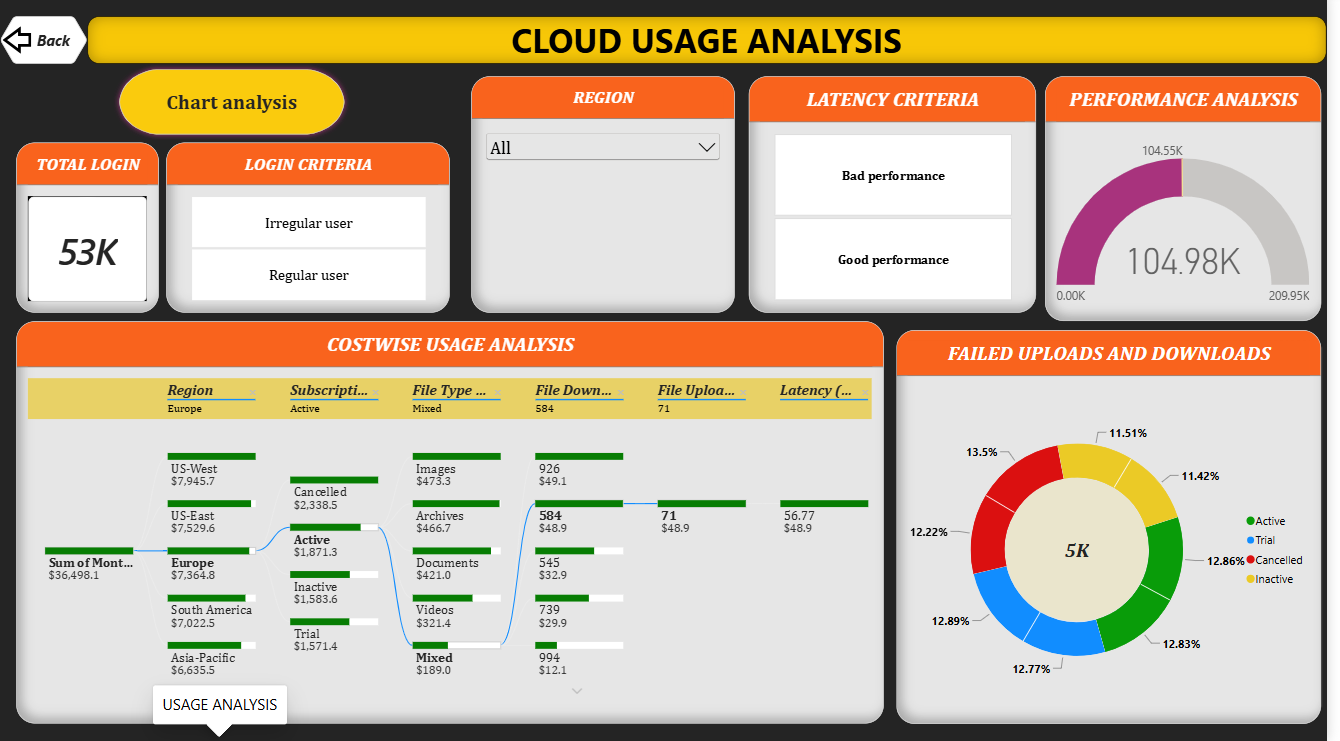

The page's visual inventory and layout, read from the dashboard file:
{"tool":"powerbi","page":{"name":"USAGE ANALYSIS","canvas":[1920,1080],"ordinal":1},"visuals":[{"type":"textbox","box":[126.7,30.8,1793.4,68.8],"z":0},{"type":"decompositionTreeVisual","title":"COSTWISE USAGE ANALYSIS","fields":{"Analyze":["Sum(FACT_TABLE.Monthly Cost ($))"],"ExplainBy":["DIM-4(REGION DIMENSION).Region","DIM-3(SUB DIMENSION).Subscription Status","DIM-2(FILE DIMENSION).File Type Distribution","FACT_TABLE.File Downloads","FACT_TABLE.File Uploads","FACT_TABLE.Latency (ms)"]},"box":[23.5,472.3,1255.9,582.7],"z":1000},{"type":"slicer","title":"LATENCY CRITERIA","fields":{"Values":["FACT_TABLE.Latency_cri"]},"box":[1084,117.6,416.2,342],"z":2000},{"type":"donutChart","title":"FAILED UPLOADS AND DOWNLOADS","fields":{"Category":["DIM-3(SUB DIMENSION).Subscription Status"],"Y":["Sum(FACT_TABLE.Failed Uploads)","Sum(FACT_TABLE.Failed Downloads)"]},"box":[1297.5,485,615.3,570],"z":3000},{"type":"gauge","title":"PERFORMANCE ANALYSIS","fields":{"TargetValue":["Sum(FACT_TABLE.Upload Speed (Mbps))"],"Y":["Sum(FACT_TABLE.Latency (ms))"]},"box":[1512.9,117.6,399.9,354.7],"z":4000},{"type":"actionButton","title":"usage analysis","box":[164.7,99.5,342,110.4],"z":5000},{"type":"actionButton","box":[0,30.8,126.7,68.8],"z":6000},{"type":"shape","box":[3.6,45.2,41.6,39.8],"z":7000},{"type":"cardVisual","title":"TOTAL LOGIN","fields":{"Data":["Sum(FACT_TABLE.Logins)"]},"box":[23.5,213.5,206.3,246.1],"z":8000},{"type":"slicer","title":"LOGIN CRITERIA","fields":{"Values":["FACT_TABLE.Login_criteria"]},"box":[240.7,213.5,410.8,246.1],"z":9000},{"type":"slicer","title":"REGION","fields":{"Values":["DIM-4(REGION DIMENSION).Region"]},"box":[682.2,117.6,381.8,342],"z":10000}]}

Visuals, with their boxes in screenshot pixels (x1, y1, x2, y2), scaled from the page's 1920x1080 canvas onto the 1340x741 screenshot:
textbox: Rect(88, 21, 1339, 68)
"COSTWISE USAGE ANALYSIS" decompositionTreeVisual: Rect(16, 324, 893, 724)
"LATENCY CRITERIA" slicer: Rect(757, 81, 1047, 315)
"FAILED UPLOADS AND DOWNLOADS" donutChart: Rect(906, 333, 1335, 724)
"PERFORMANCE ANALYSIS" gauge: Rect(1056, 81, 1335, 324)
"usage analysis" actionButton: Rect(115, 68, 354, 144)
actionButton: Rect(0, 21, 88, 68)
shape: Rect(3, 31, 32, 58)
"TOTAL LOGIN" cardVisual: Rect(16, 146, 160, 315)
"LOGIN CRITERIA" slicer: Rect(168, 146, 455, 315)
"REGION" slicer: Rect(476, 81, 743, 315)
